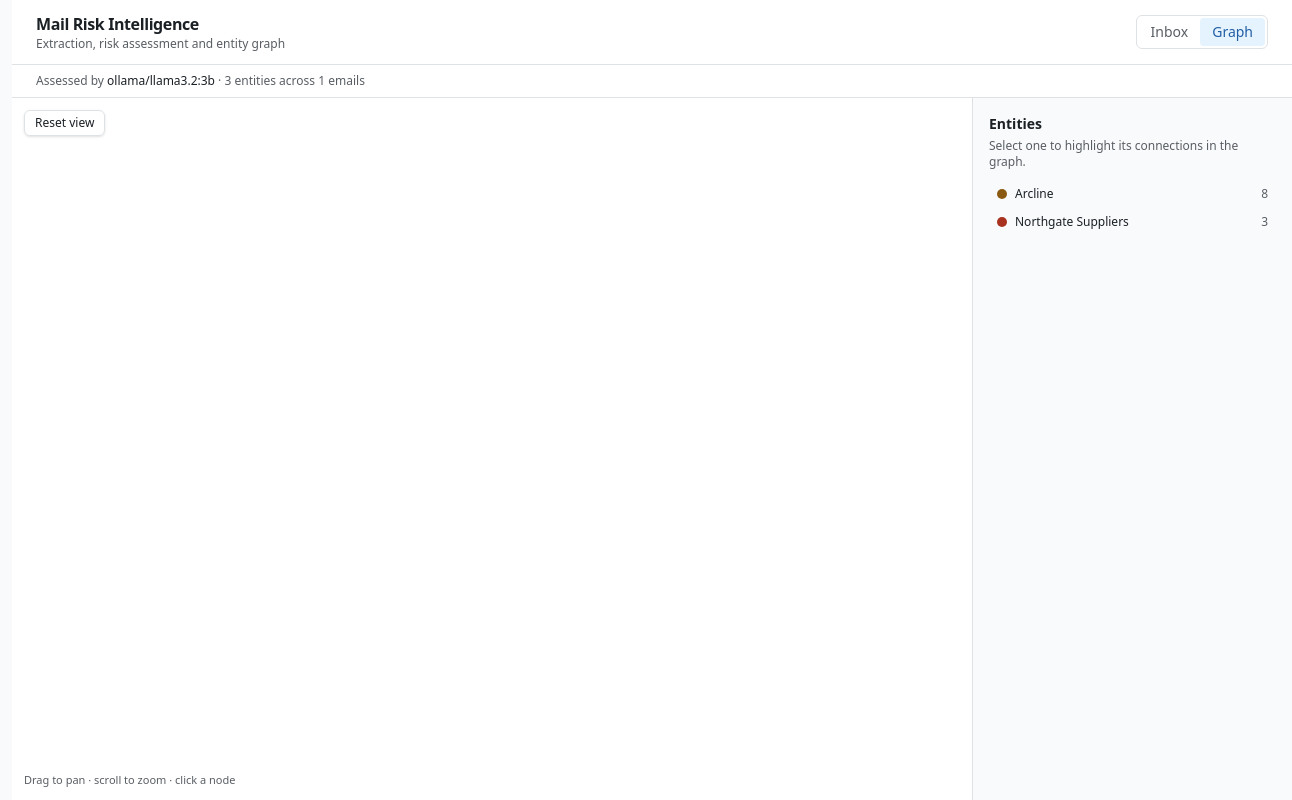
Test case: graph view › selecting an entity shows its connections and a way into the email
This screenshot has width=1292, height=800.
Click the button "graph": (1233, 32) [1200,18,1265,46]
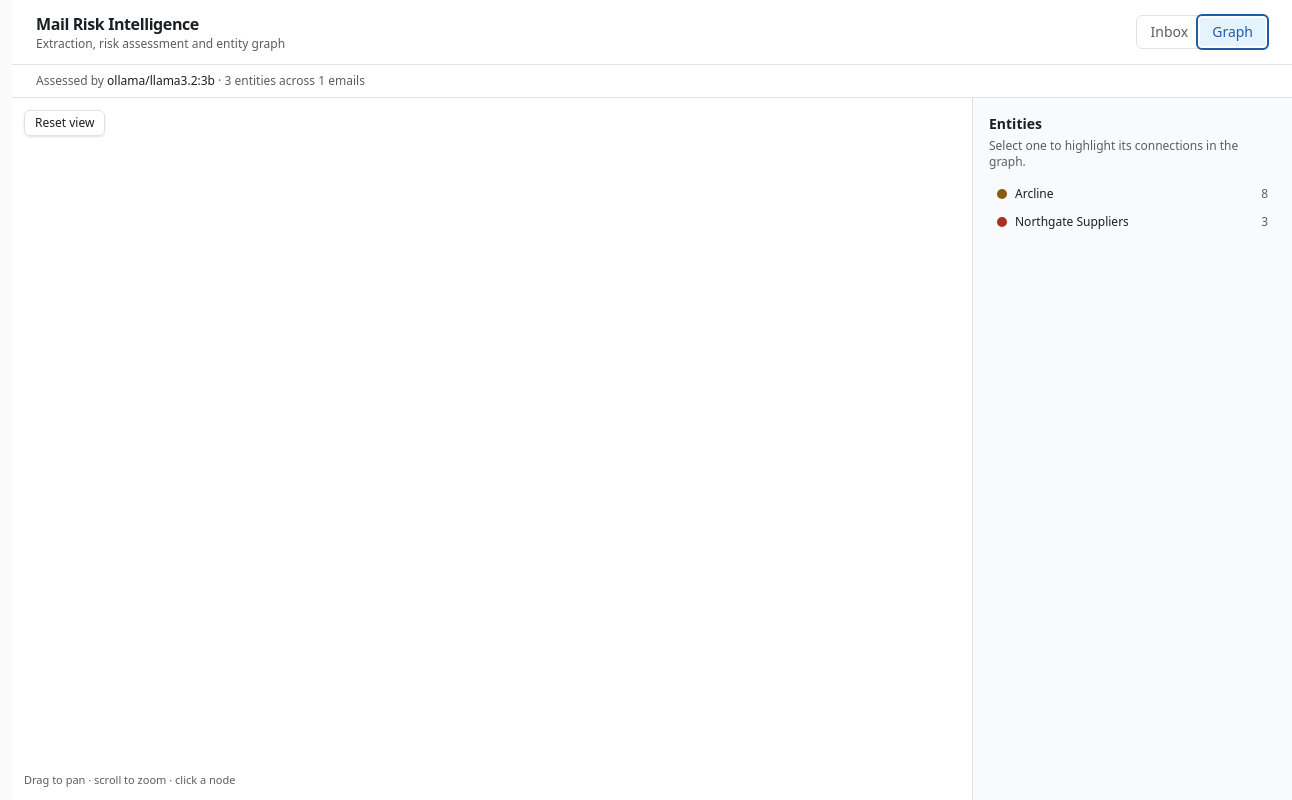
Click the button "Northgate Suppliers 3": (1072, 222) [989,210,1276,234]
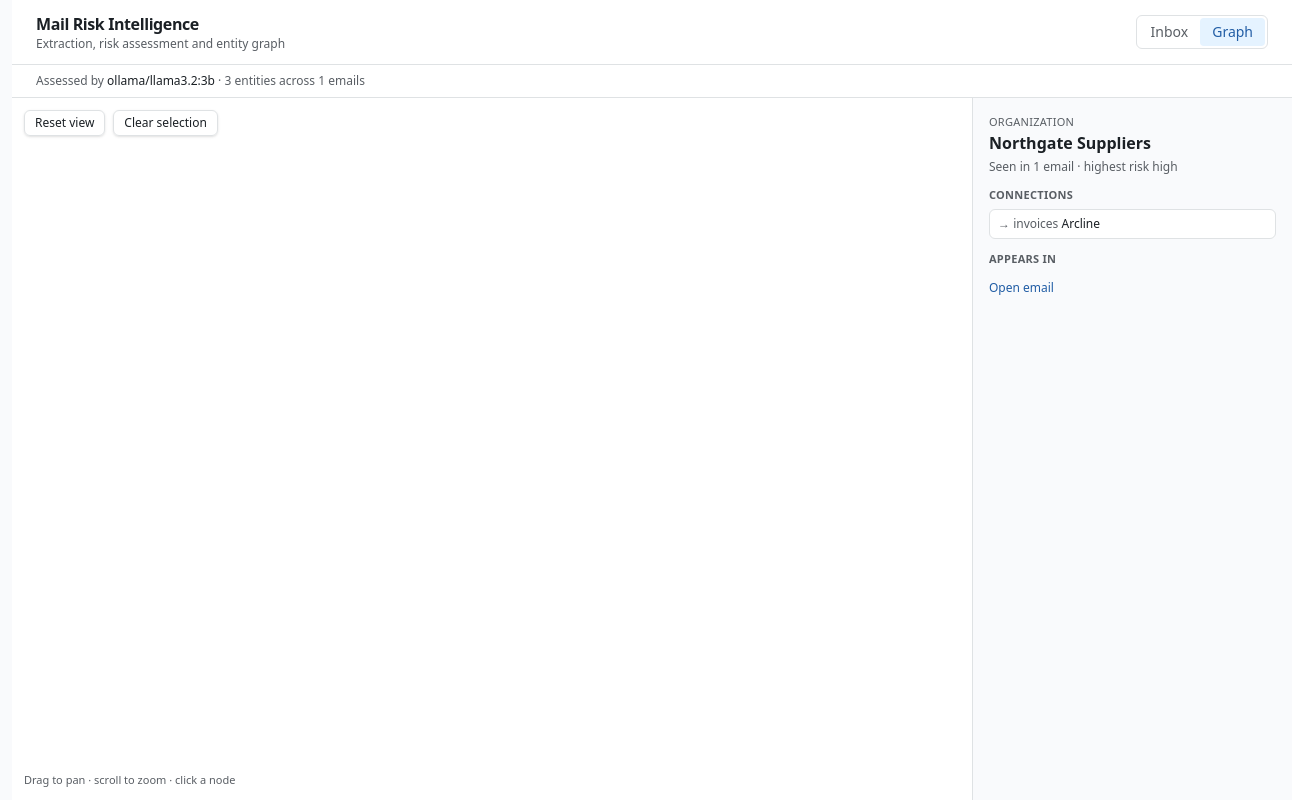
Expected: the heading "Connections" is shown, [989,186,1073,202]
Expected: the text "→ invoices" is shown, [998,215,1058,232]
Expected: the text "Seen in 1 email · highest risk high" is shown, [989,158,1178,174]
Note: And the graph is a route back into the mailbox.
Click the button "Open email": (1022, 288) [989,280,1054,296]
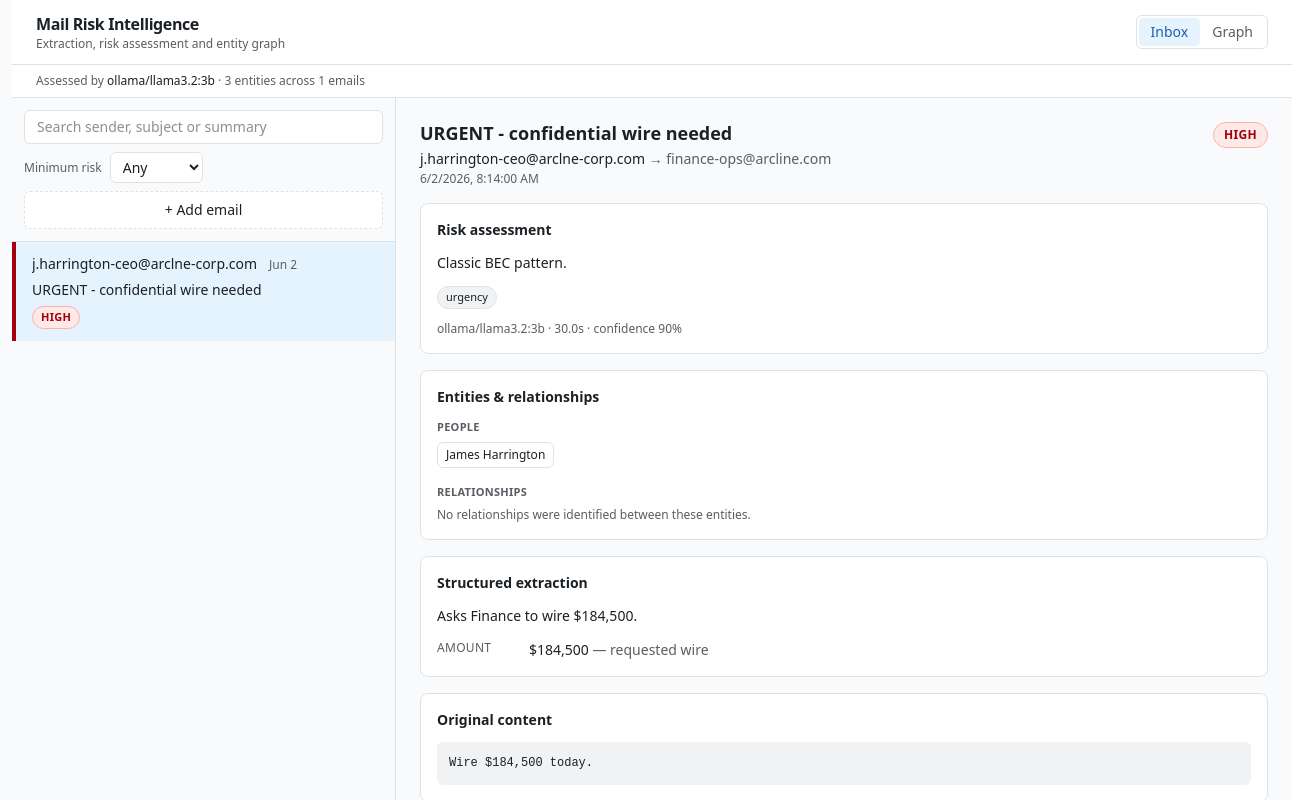
Expected: the text "Classic BEC pattern." is shown, [437,252,567,272]
